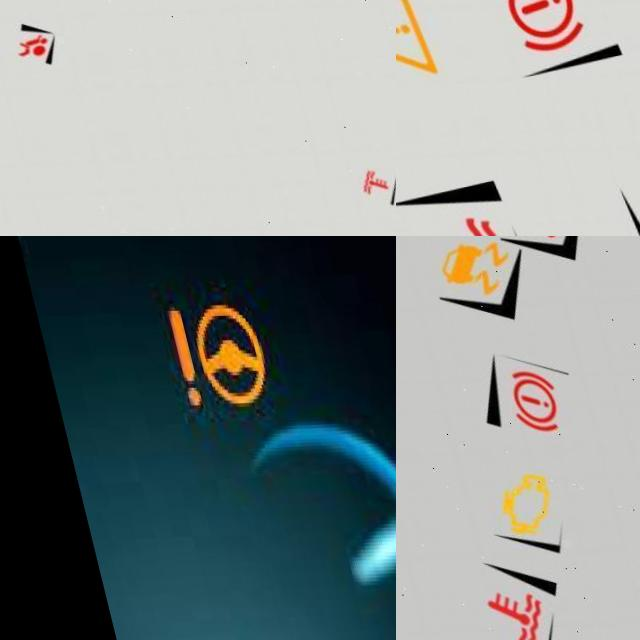Electronic Power Steering: (140, 293, 271, 427)
